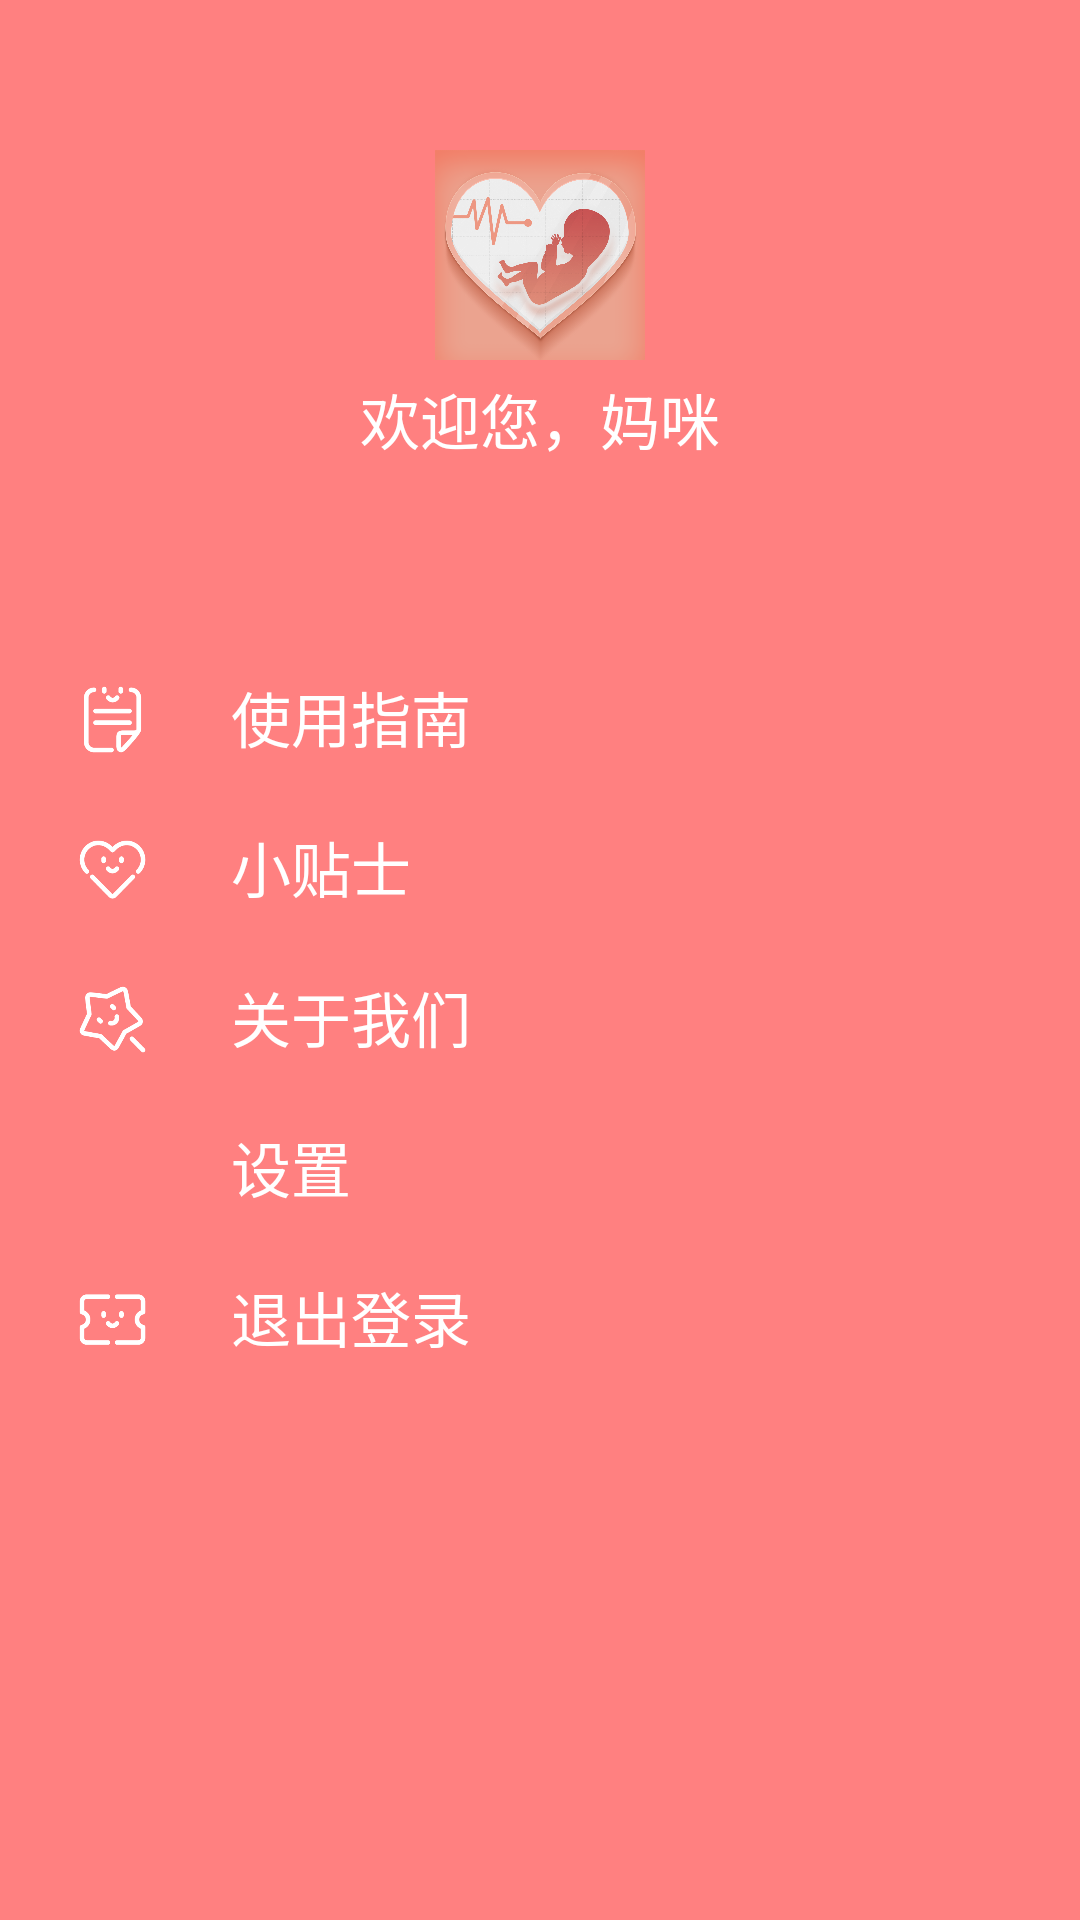

Icons on this 1080px x 1920px Android screen, each with the point to tap as (x=x, y=y):
useguide: (x=112, y=720)
